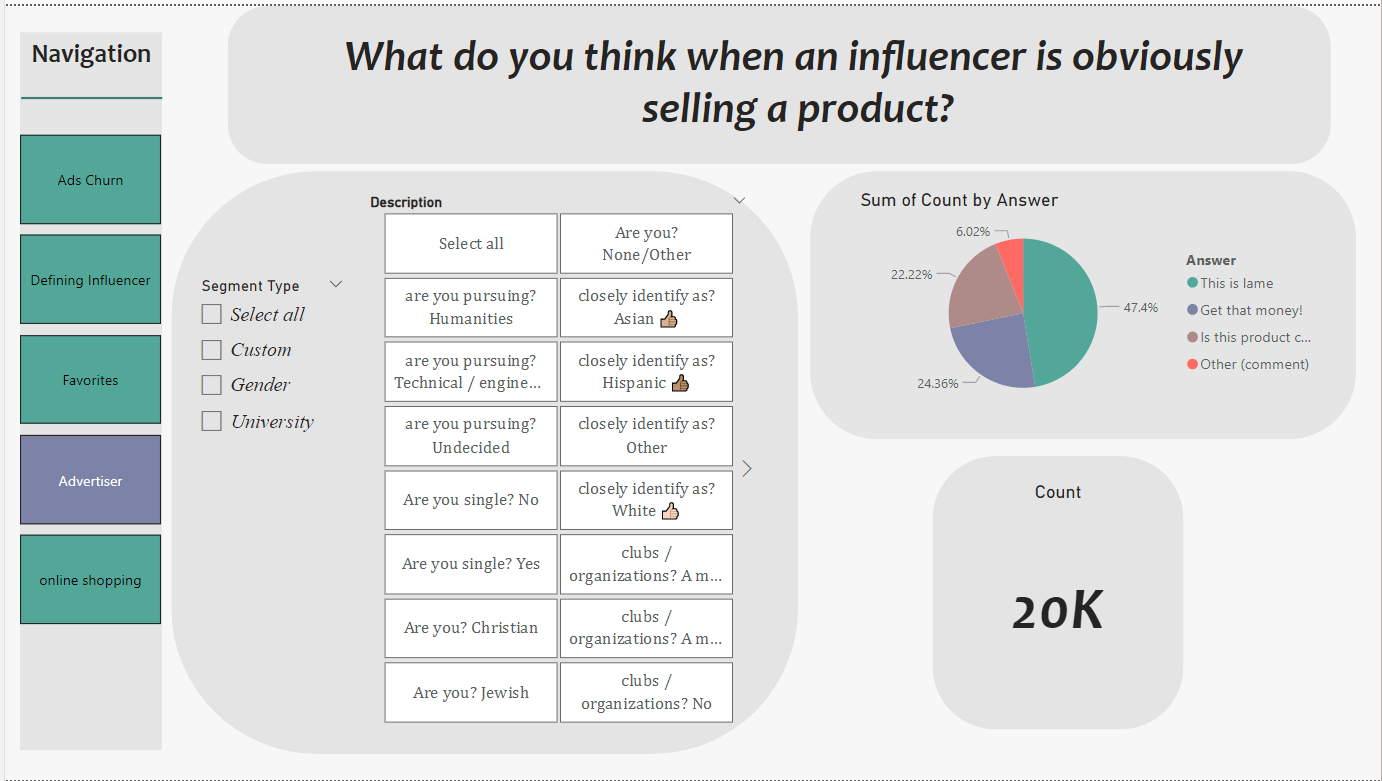

This screenshot's page, from the dashboard's own definition file:
{"tool":"powerbi","page":{"name":"Advertiser","canvas":[1280,720],"ordinal":3},"visuals":[{"type":"shape","box":[13.7,24.7,131.7,668.3],"z":0},{"type":"shape","box":[207.2,0,1026.4,146.8],"z":1000},{"type":"shape","box":[155.1,153.7,583.2,542],"z":2000},{"type":"shape","box":[862.8,418.6,233.7,254.7],"z":3000},{"type":"shape","box":[749.2,153.7,507.7,249.7],"z":4000},{"type":"card","fields":{"Values":["Min(influencer_seller.Question)"]},"box":[241.5,0,992.1,126.2],"z":5000},{"type":"card","title":"Count","fields":{"Values":["Sum(influencer_seller.Count)"]},"box":[880.2,441.9,198.8,208.1],"z":6000},{"type":"slicer","fields":{"Values":["influencer_seller.Segment Description"]},"box":[326.6,170.2,374.6,503.6],"z":7000},{"type":"pieChart","fields":{"Category":["influencer_seller.Answer"],"Y":["Sum(influencer_seller.Count)"]},"box":[790.7,169.8,443,212.8],"z":8000},{"type":"slicer","fields":{"Values":["influencer_seller.Segment Type"]},"box":[169.8,246.5,157,229.1],"z":9000},{"type":"textbox","box":[0,24.4,160.5,58.1],"z":11000},{"type":"shape","box":[15.1,74.4,131.4,22.1],"z":12000},{"type":"pageNavigator","box":[14,119.8,131.4,458.1],"z":12001}]}

Visuals, with their boxes in screenshot pixels (x1, y1, x2, y2), scaled from the page's 1280x720 canvas onto the 1382x781 screenshot:
shape: [left=15, top=27, right=157, bottom=752]
shape: [left=224, top=0, right=1332, bottom=159]
shape: [left=167, top=167, right=797, bottom=755]
shape: [left=932, top=454, right=1184, bottom=730]
shape: [left=809, top=167, right=1357, bottom=438]
card - Min(influencer_seller.Question): [left=261, top=0, right=1332, bottom=137]
"Count" card: [left=950, top=479, right=1165, bottom=705]
slicer - influencer_seller.Segment Description: [left=353, top=185, right=757, bottom=731]
pieChart - influencer_seller.Answer x Sum(influencer_seller.Count): [left=854, top=184, right=1332, bottom=415]
slicer - influencer_seller.Segment Type: [left=183, top=267, right=353, bottom=516]
textbox: [left=0, top=26, right=173, bottom=89]
shape: [left=16, top=81, right=158, bottom=105]
pageNavigator: [left=15, top=130, right=157, bottom=627]
